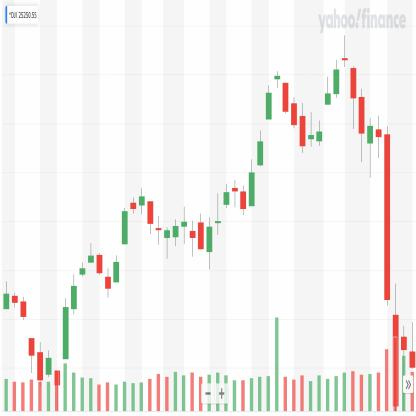Bearish 3 Black Crows: (281, 78, 307, 160)
Bearish Abandoned Baby: (332, 28, 358, 138), (264, 66, 290, 124)
Bullish 3 White Soldiers: (247, 80, 273, 212)
